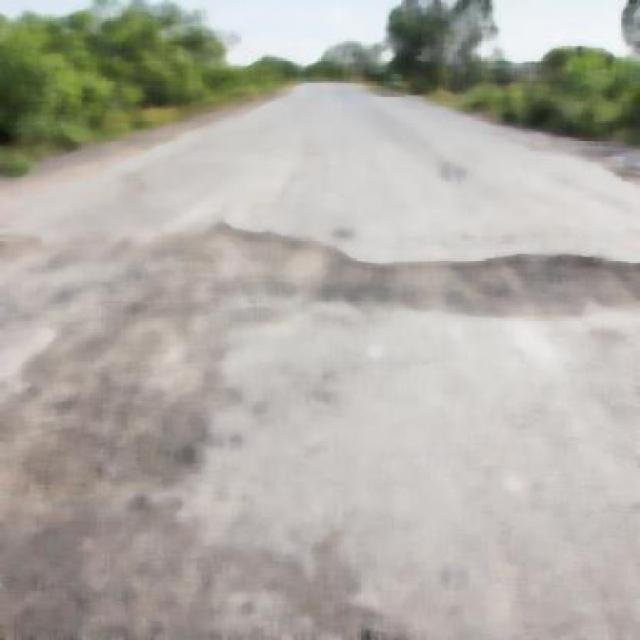Pothole: (144, 220, 638, 331)
